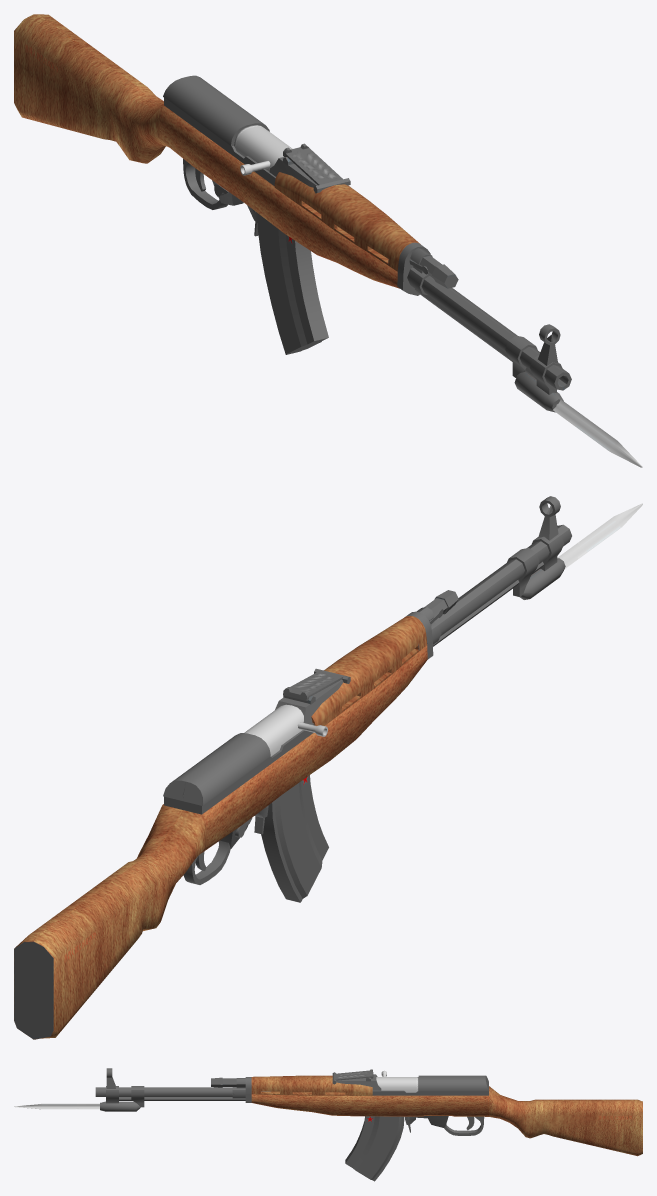
The model's file is 63式步枪.FBX.
The picture shows the model from 3 angles, top to bottom: view 1: azimuth 30°, elevation 25°; view 2: azimuth 150°, elevation 25°; view 3: azimuth 270°, elevation 25°; orthographic projection. The views are drawn at different scales.
Visible parts, largest first — view 1: 63式步枪; view 2: 63式步枪; view 3: 63式步枪.
Boxes of the visible parts, x1,y1,x2,y2 form: 63式步枪: [14, 14, 642, 467]; 63式步枪: [14, 496, 642, 1039]; 63式步枪: [14, 1068, 642, 1181].
Bounding box in the file's own units: 0.0941 × 0.2993 × 1.54.
